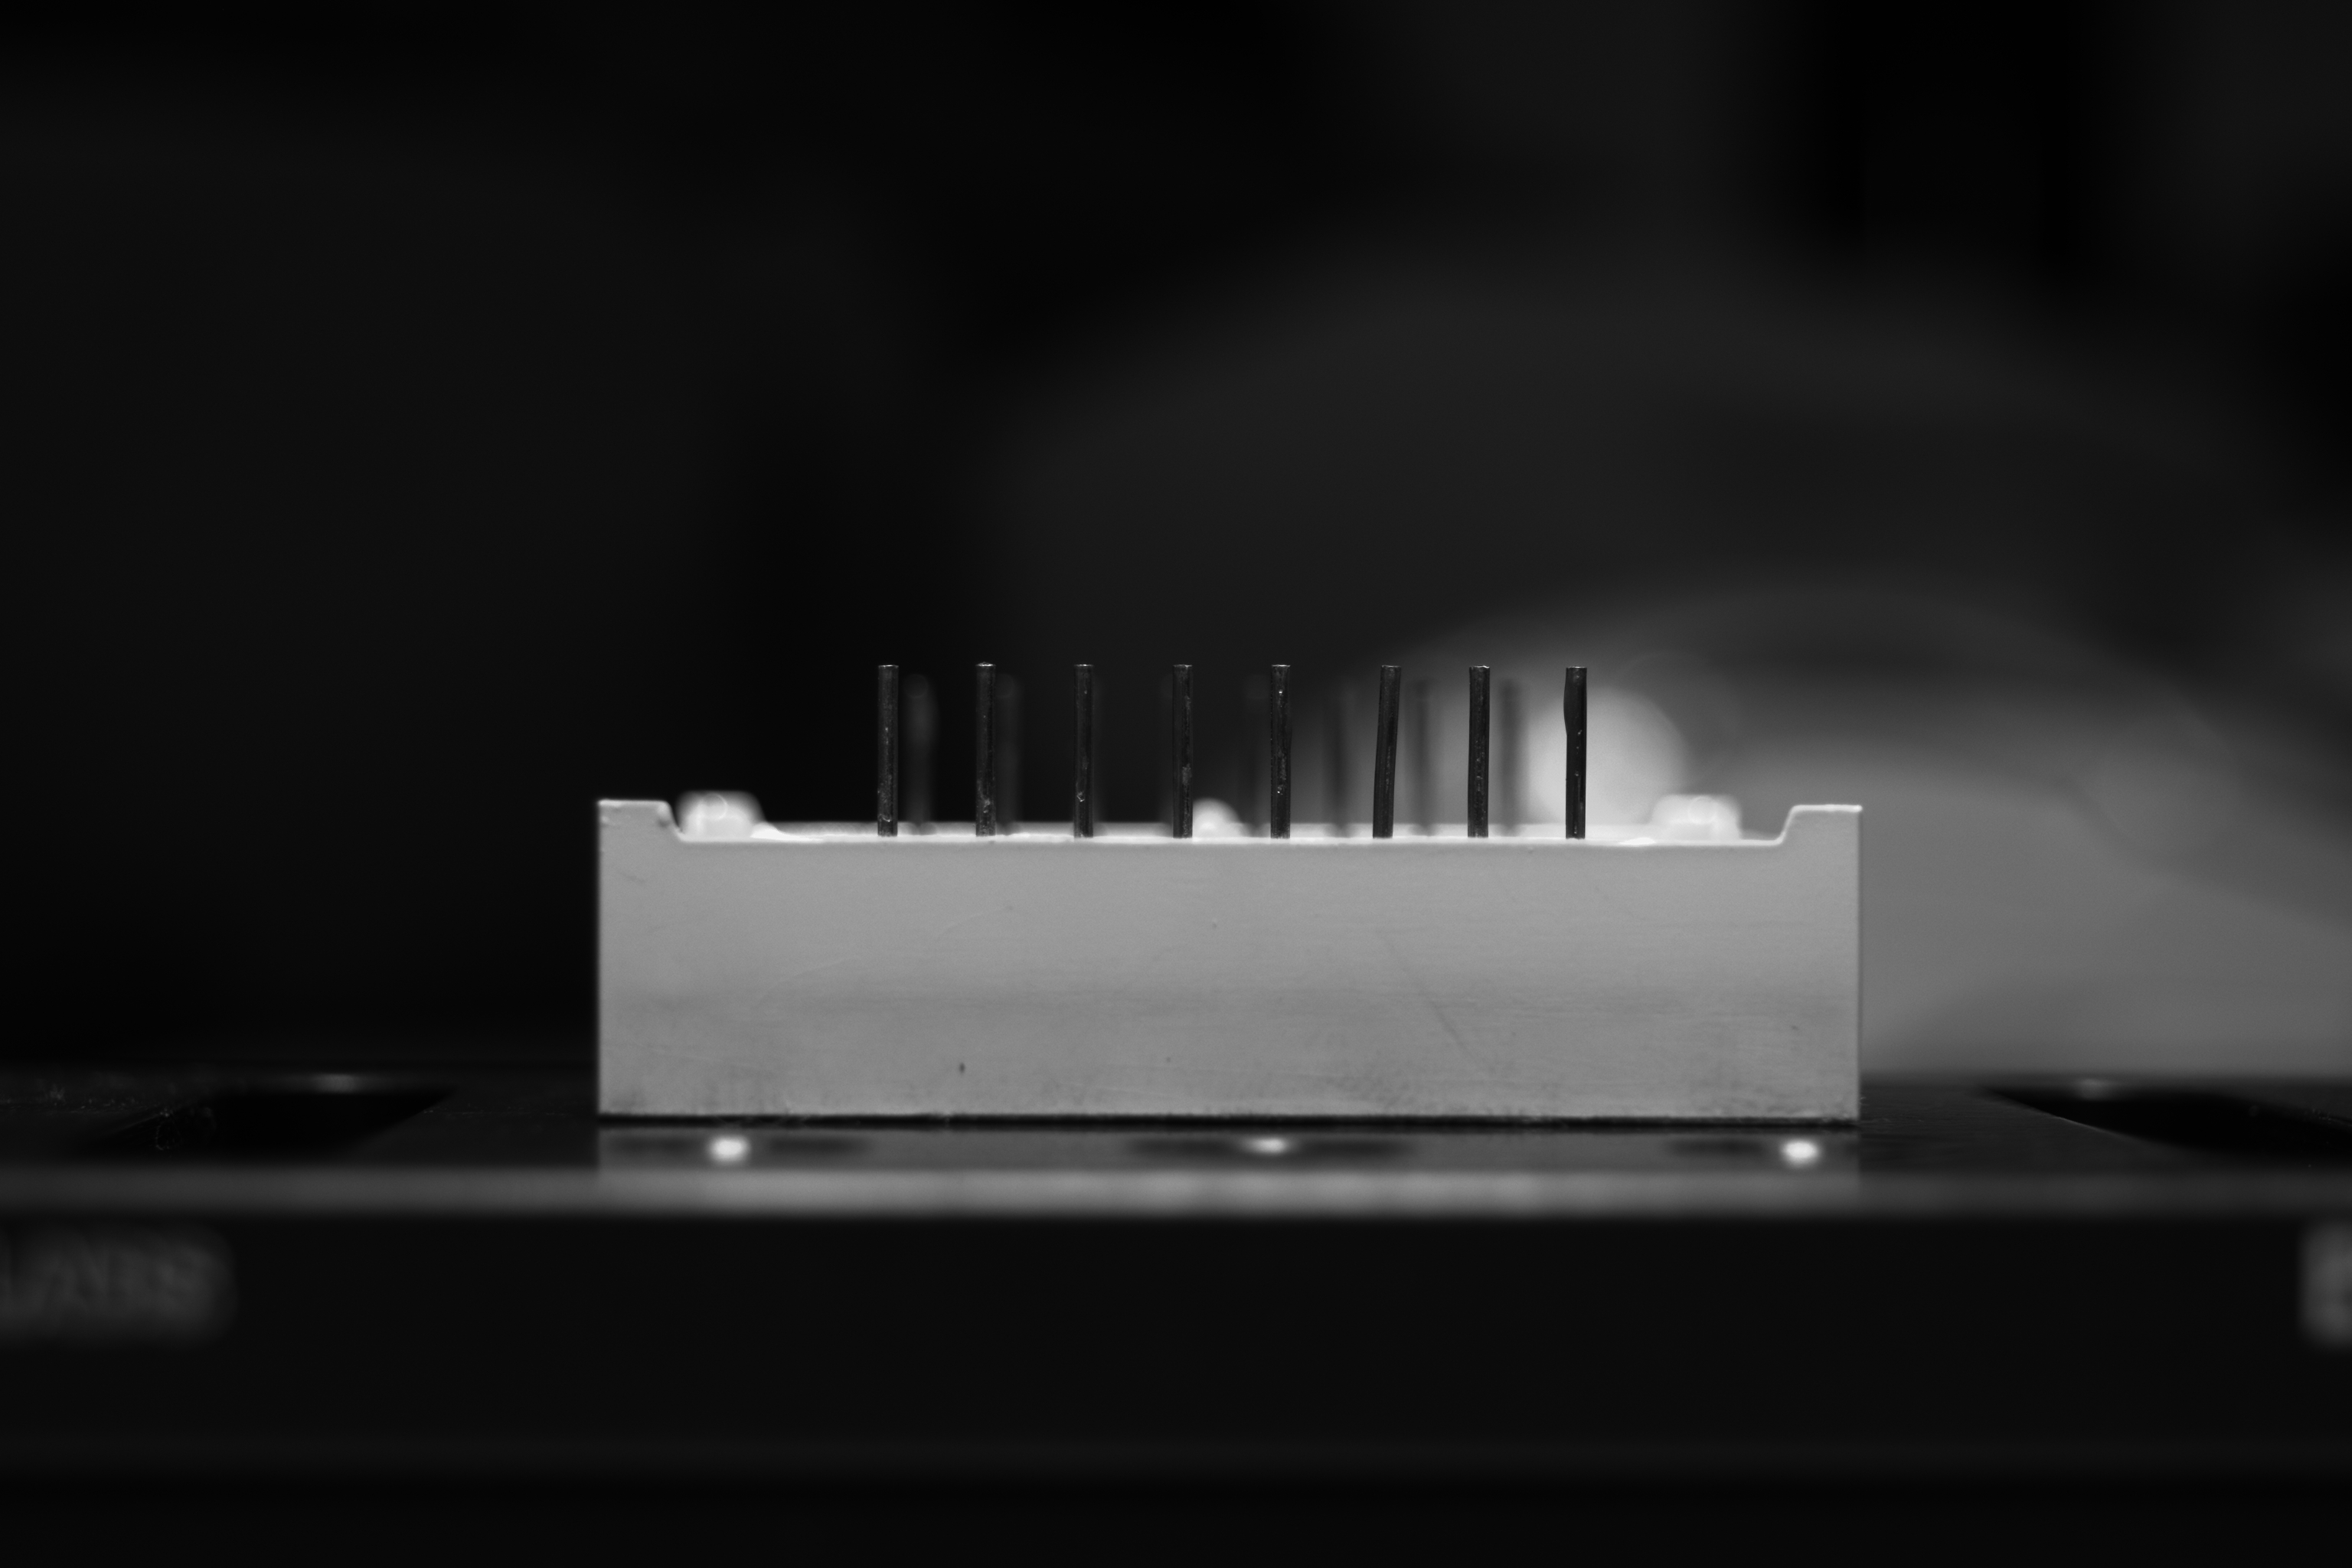glue: (756, 950, 857, 1004), (1069, 1074, 1193, 1111), (931, 894, 1022, 941), (600, 796, 628, 845), (646, 801, 675, 838), (1207, 913, 1221, 931), (1522, 843, 1540, 856)
pin_glue: (1552, 656, 1603, 759), (1267, 663, 1293, 838)
pin_inclined_side: (1360, 656, 1412, 840)
